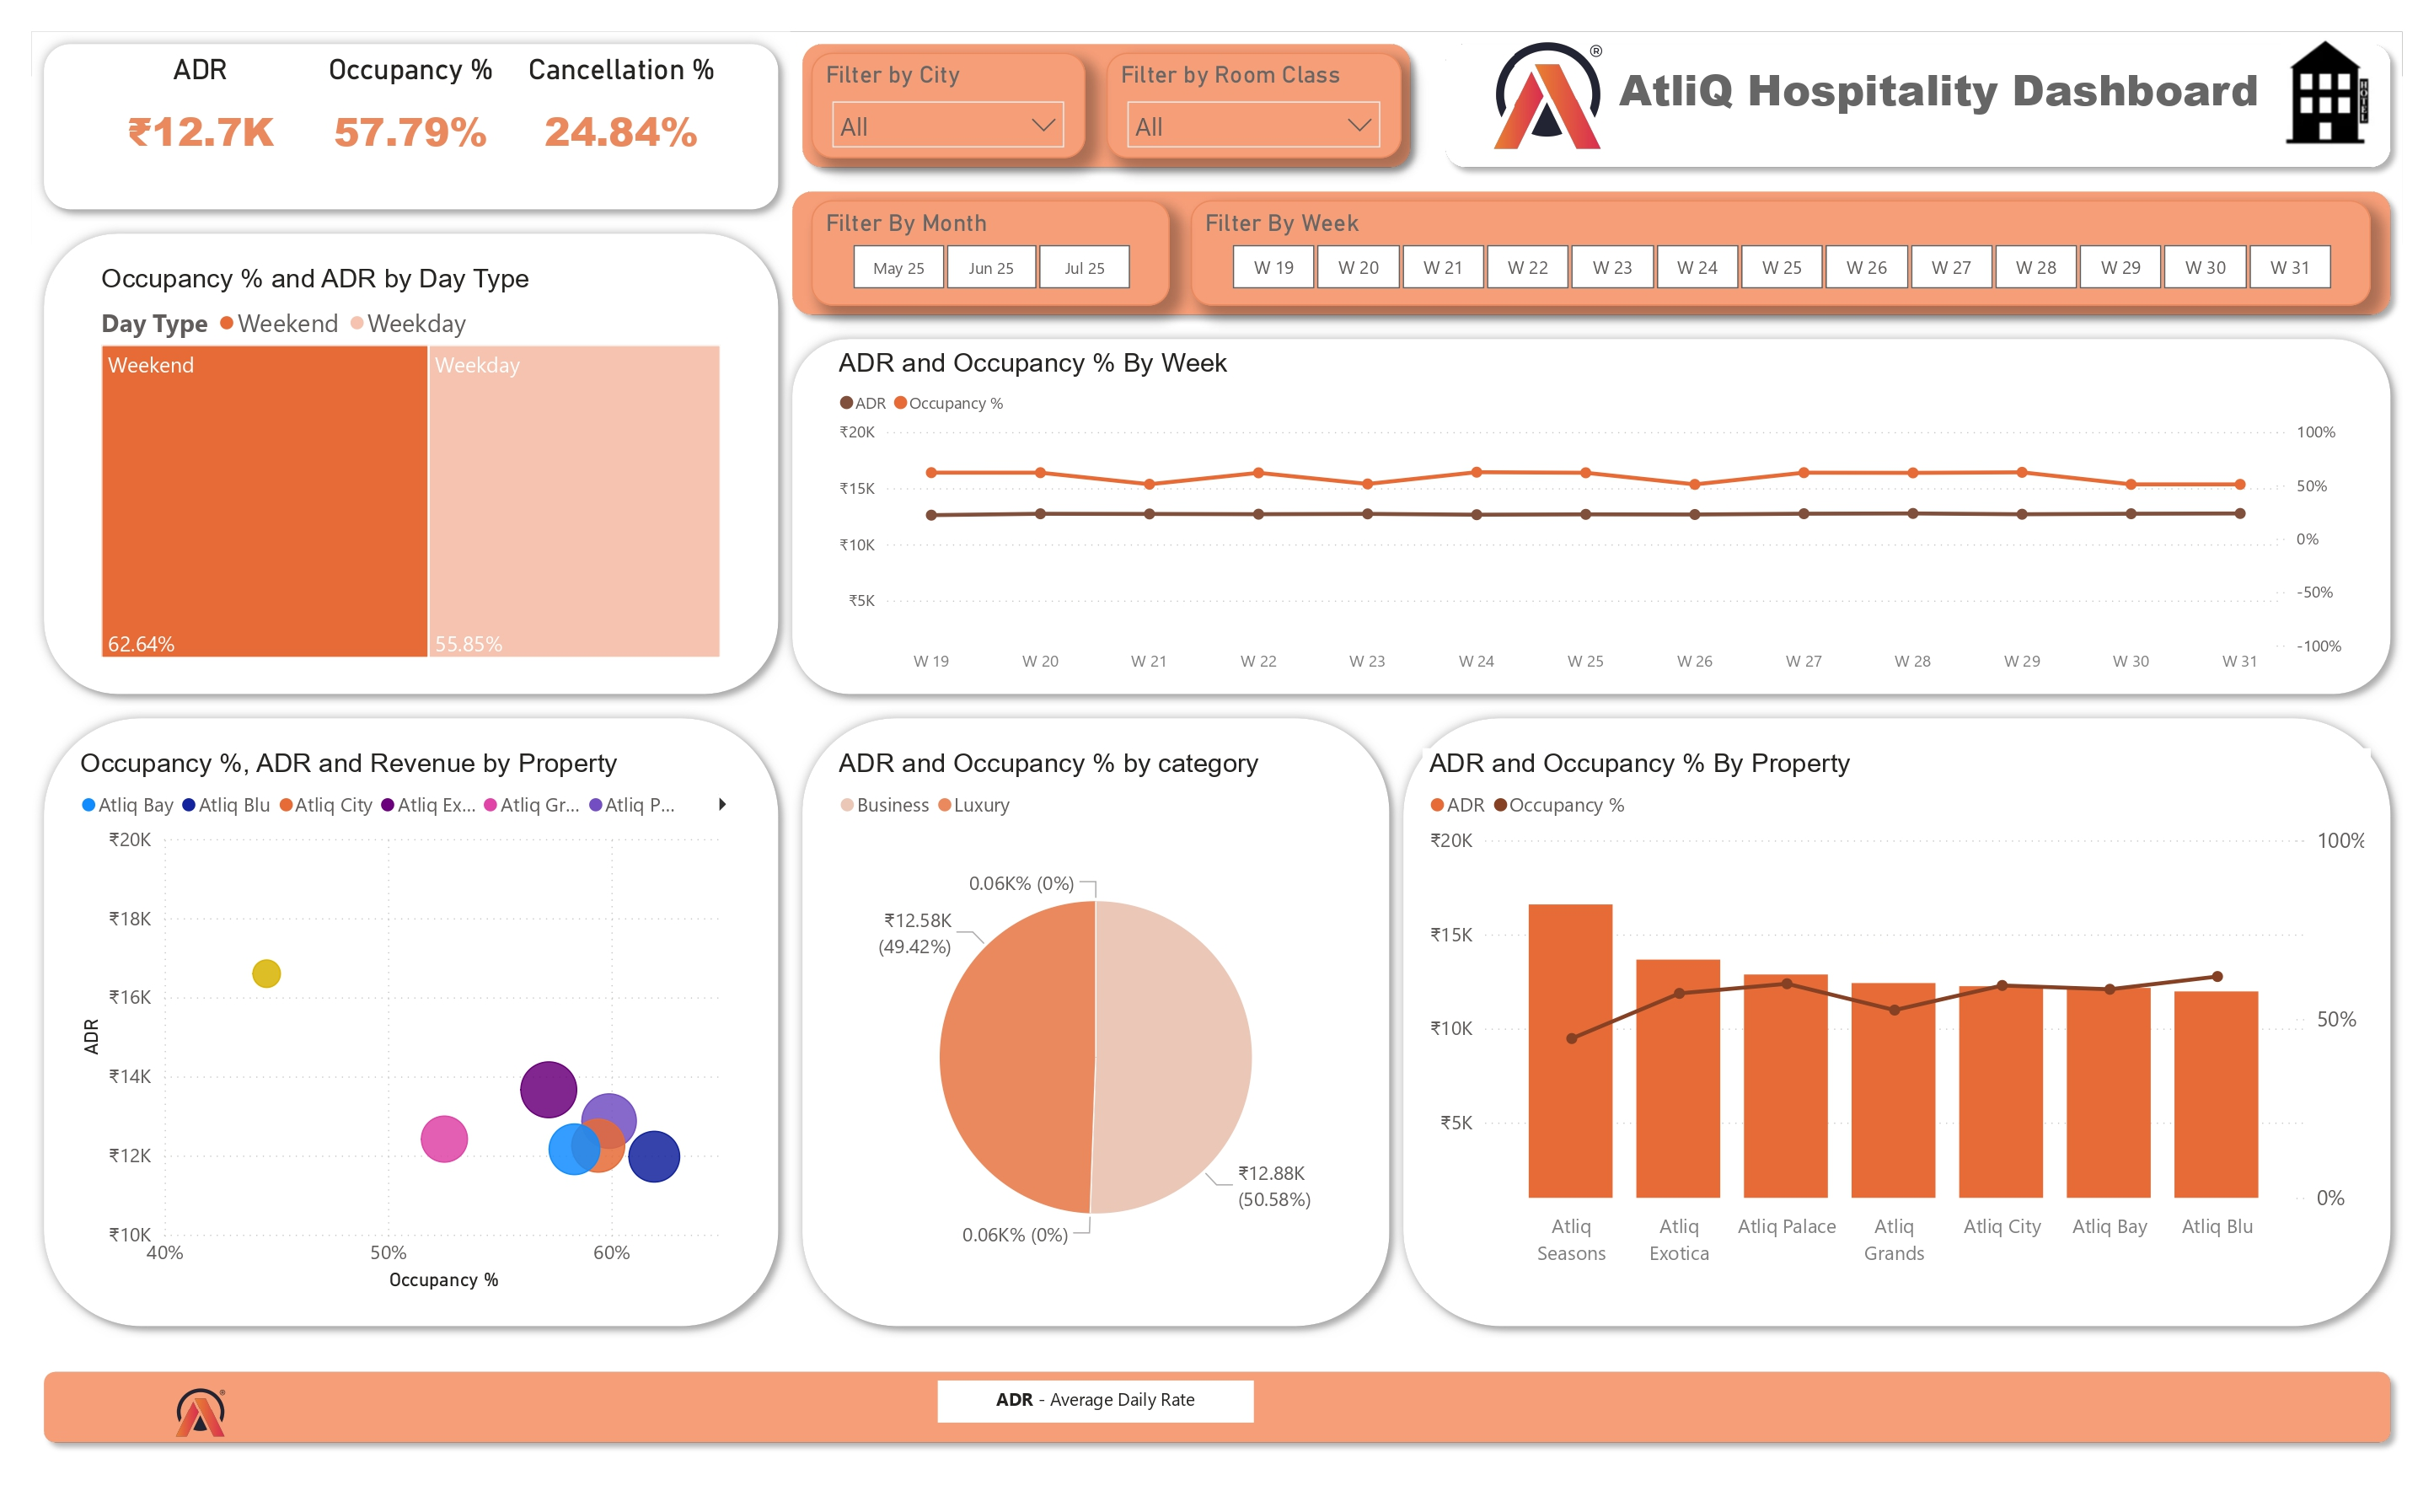

The page's visual inventory and layout, read from the dashboard file:
{"tool":"powerbi","page":{"name":"Overview","canvas":[1800,1100],"ordinal":0},"visuals":[{"type":"shape","box":[576,0,480,112],"z":0},{"type":"shape","box":[1064,0,736,112],"z":1000},{"type":"shape","box":[96,256,352,64],"z":2000},{"type":"shape","box":[568,224,1232,288],"z":3000},{"type":"shape","box":[568,112,1232,112],"z":4000},{"type":"shape","box":[0,512,576,480],"z":5000},{"type":"shape","box":[568,512,1232,480],"z":6000},{"type":"shape","box":[0,0,576,512],"z":7000},{"type":"card","title":"Revenue","fields":{"Values":["key_measures.Revenue"]},"box":[48,16,160,95],"z":8000},{"type":"tableEx","title":"Property By Key Metrics","fields":{"Values":["dim_hotels.property_id","dim_hotels.property_name","dim_hotels.city","key_measures.Revenue","key_measures.RevPar","key_measures.Occupancy %","key_measures.ADR","key_measures.DSRN","key_measures.DURN","key_measures.DBRN","key_measures.Realization %","key_measures.Cancellation %"]},"box":[608,560,1168,384],"z":9000},{"type":"tableEx","fields":{"Values":["key_measures.Revenue WoW change %"]},"box":[80,96,96,49],"z":10000},{"type":"slicer","title":"Filter By Week","fields":{"Values":["dim_date.week no"]},"box":[880,128,896,80],"z":11000},{"type":"card","title":"RevPar","fields":{"Values":["key_measures.RevPar"]},"box":[208,16,160,96],"z":12000},{"type":"tableEx","fields":{"Values":["key_measures.RevPar WOW % Change"]},"box":[240,96,112,49],"z":13000},{"type":"card","title":"DSRN","fields":{"Values":["key_measures.DSRN"]},"box":[368,16,160,96],"z":14000},{"type":"tableEx","fields":{"Values":["key_measures.DSRN WOW % Change"]},"box":[400,96,96,49],"z":15000},{"type":"card","title":"Occupancy %","fields":{"Values":["key_measures.Occupancy %"]},"box":[48,144,160,96],"z":16000},{"type":"tableEx","fields":{"Values":["key_measures.Occupancy WOW % Change"]},"box":[80,224,99,52],"z":17000},{"type":"card","title":"ADR","fields":{"Values":["key_measures.ADR"]},"box":[208,144,160,96],"z":18000},{"type":"tableEx","fields":{"Values":["key_measures.ADR WOW % Change"]},"box":[240,224,112,64],"z":19000},{"type":"card","title":"Realization","fields":{"Values":["key_measures.Realization %"]},"box":[368,144,160,96],"z":20000},{"type":"tableEx","fields":{"Values":["key_measures.Realiztion WOW % Change"]},"box":[400,224,96,49],"z":21000},{"type":"tableEx","fields":{"Values":["dim_date.Day Type","key_measures.RevPar","key_measures.Occupancy %","key_measures.ADR","key_measures.Realization %"]},"box":[80,336,416,128],"z":22000},{"type":"donutChart","fields":{"Category":["dim_hotels.category"],"Y":["key_measures.Revenue"]},"box":[48,544,480,400],"z":23000},{"type":"lineClusteredColumnComboChart","fields":{"Category":["fact_bookings.booking_platform"],"Y":["key_measures.Realization %"],"Y2":["key_measures.ADR"]},"box":[592,256,592,240],"z":24000},{"type":"slicer","title":"Filter By Month","fields":{"Values":["dim_date.mmm yy"]},"box":[592,128,272,80],"z":25000},{"type":"slicer","title":"Filter by City","fields":{"Values":["dim_hotels.city"]},"box":[592,16,208,80],"z":26000},{"type":"slicer","title":"Filter by Room Class","fields":{"Values":["dim_rooms.room_class"]},"box":[816,16,224,80],"z":27000},{"type":"textbox","box":[128,288,336,32],"z":28000},{"type":"textbox","box":[1200,16,504,72],"z":29000},{"type":"image","box":[1104,0,96,96],"z":30000},{"type":"image","box":[1688,0,112,96],"z":31000},{"type":"shape","box":[0,1008,1800,72],"z":32000},{"type":"textbox","box":[352,1029,1104,32],"z":33000},{"type":"image","box":[80,1024,96,48],"z":34000},{"type":"lineChart","title":"ADR, RevPar and Occupancy % by Month & Week","fields":{"Y":["key_measures.RevPar","key_measures.ADR"],"Y2":["key_measures.Occupancy %","key_measures.Realization %"],"Category":["dim_date.date.Variation.Date Hierarchy.Month","dim_date.week no"]},"box":[1200,256,544,240],"z":35000}]}

Visuals, with their boxes on the page's 1800x1100 design canvas (x1, y1, x2, y2). These are canvas units, not pixel positions in the 2434x1512 screenshot, which may show the page scaled, cropped or inside an application window:
shape: 576:0:1056:112
shape: 1064:0:1800:112
shape: 96:256:448:320
shape: 568:224:1800:512
shape: 568:112:1800:224
shape: 0:512:576:992
shape: 568:512:1800:992
shape: 0:0:576:512
"Revenue" card: 48:16:208:111
"Property By Key Metrics" tableEx: 608:560:1776:944
tableEx - key_measures.Revenue WoW change %: 80:96:176:145
"Filter By Week" slicer: 880:128:1776:208
"RevPar" card: 208:16:368:112
tableEx - key_measures.RevPar WOW % Change: 240:96:352:145
"DSRN" card: 368:16:528:112
tableEx - key_measures.DSRN WOW % Change: 400:96:496:145
"Occupancy %" card: 48:144:208:240
tableEx - key_measures.Occupancy WOW % Change: 80:224:179:276
"ADR" card: 208:144:368:240
tableEx - key_measures.ADR WOW % Change: 240:224:352:288
"Realization" card: 368:144:528:240
tableEx - key_measures.Realiztion WOW % Change: 400:224:496:273
tableEx - dim_date.Day Type x key_measures.RevPar: 80:336:496:464
donutChart - dim_hotels.category x key_measures.Revenue: 48:544:528:944
lineClusteredColumnComboChart - fact_bookings.booking_platform x key_measures.Realization %: 592:256:1184:496
"Filter By Month" slicer: 592:128:864:208
"Filter by City" slicer: 592:16:800:96
"Filter by Room Class" slicer: 816:16:1040:96
textbox: 128:288:464:320
textbox: 1200:16:1704:88
image: 1104:0:1200:96
image: 1688:0:1800:96
shape: 0:1008:1800:1080
textbox: 352:1029:1456:1061
image: 80:1024:176:1072
"ADR, RevPar and Occupancy % by Month & Week" lineChart: 1200:256:1744:496
